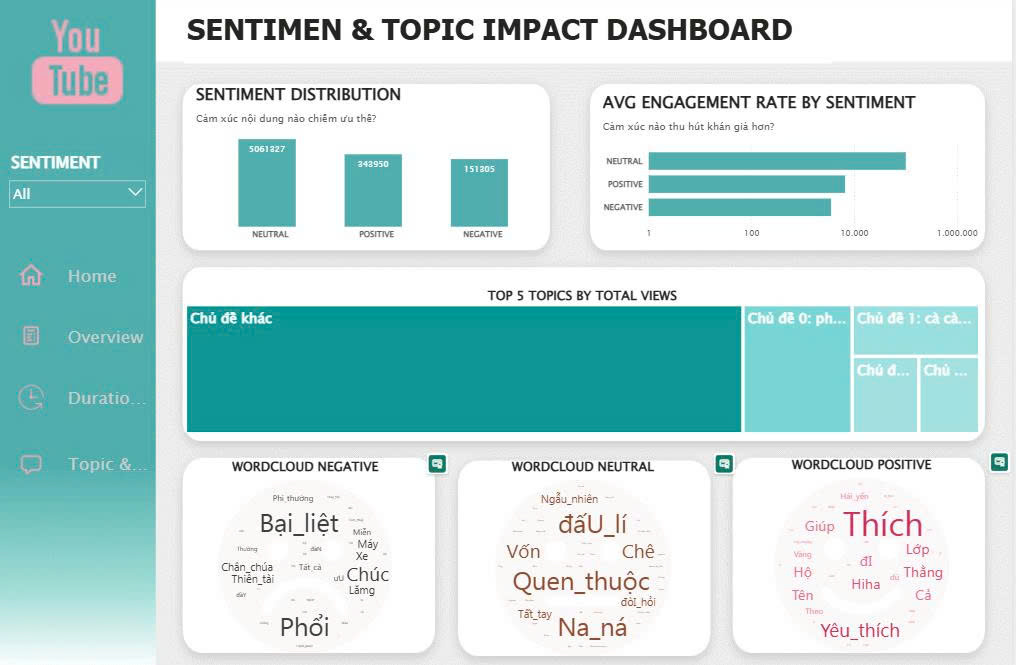

What the dashboard file says about the page in this screenshot:
{"tool":"powerbi","page":{"name":"Dash3","canvas":[1500,1000],"ordinal":3},"visuals":[{"type":"image","box":[0,22.5,232.5,160],"z":0},{"type":"textbox","box":[272.5,20,957.5,82.5],"z":1000},{"type":"slicer","fields":{"Values":["YOUTUBE_VIZ.sentiment"]},"box":[0,221.4,232.3,132.4],"z":2000},{"type":"clusteredColumnChart","title":"SENTIMENT DISTRIBUTION","fields":{"Category":["YOUTUBE_VIZ.sentiment"],"Y":["CountNonNull(YOUTUBE_VIZ.video_id)"]},"box":[286,132,544,246],"z":3000},{"type":"actionButton","title":"Button 3","box":[2.2,649.8,232.3,88.4],"z":3000,"group":"g1"},{"type":"actionButton","title":"Button 2","box":[2.2,553.1,232.3,88.4],"z":3125,"group":"g1"},{"type":"actionButton","title":"Button 1","box":[2.2,465.5,232.3,79.3],"z":3250,"group":"g1"},{"type":"actionButton","title":"Button Home","box":[2.2,375.6,232.3,81.6],"z":3500,"group":"g1"},{"type":"clusteredBarChart","title":"AVG ENGAGEMENT RATE BY SENTIMENT","fields":{"Category":["YOUTUBE_VIZ.sentiment"],"Y":["Sum(YOUTUBE_VIZ.engagement_rate)"]},"box":[882.5,132.5,570,242.5],"z":4000},{"type":"treemap","title":"TOP 5 TOPICS BY TOTAL VIEWS","fields":{"Values":["Sum(YOUTUBE_VIZ.views)"],"Group":["YOUTUBE_VIZ.topic_name_vn"]},"box":[272,426,1180,222],"z":5000},{"type":"WordCloud5550983e166911eebe560242ac120002","title":"WORDCLOUD POSITIVE","fields":{"measure":["Sum(YOUTUBE_VIZ.engagement_rate)"],"categories":["YOUTUBE_VIZ.comment_tokens"]},"box":[1047.5,672.5,452.5,307.5],"z":6000},{"type":"WordCloud5550983e166911eebe560242ac120002","title":"WORDCLOUD NEUTRAL","fields":{"measure":["Sum(YOUTUBE_VIZ.engagement_rate)"],"categories":["YOUTUBE_VIZ.comment_tokens"]},"box":[630,675,462.5,310],"z":7000},{"type":"WordCloud5550983e166911eebe560242ac120002","title":"WORDCLOUD NEGATIVE","fields":{"measure":["Sum(YOUTUBE_VIZ.engagement_rate)"],"categories":["YOUTUBE_VIZ.comment_tokens"]},"box":[232.5,675,435,305],"z":8000},{"type":"group","id":"g1","title":"Navigation","box":[2.2,375.6,232.3,362.5],"z":9000}]}

Visuals, with their boxes on the page's 1500x1000 design canvas (x1, y1, x2, y2). These are canvas units, not pixel positions in the 1016x665 screenshot, which may show the page scaled, cropped or inside an application window:
image: locate(0, 22, 232, 182)
textbox: locate(272, 20, 1230, 102)
slicer - YOUTUBE_VIZ.sentiment: locate(0, 221, 232, 354)
"SENTIMENT DISTRIBUTION" clusteredColumnChart: locate(286, 132, 830, 378)
"Button 3" actionButton: locate(2, 650, 234, 738)
"Button 2" actionButton: locate(2, 553, 234, 642)
"Button 1" actionButton: locate(2, 466, 234, 545)
"Button Home" actionButton: locate(2, 376, 234, 457)
"AVG ENGAGEMENT RATE BY SENTIMENT" clusteredBarChart: locate(882, 132, 1452, 375)
"TOP 5 TOPICS BY TOTAL VIEWS" treemap: locate(272, 426, 1452, 648)
"WORDCLOUD POSITIVE" WordCloud5550983e166911eebe560242ac120002: locate(1048, 672, 1500, 980)
"WORDCLOUD NEUTRAL" WordCloud5550983e166911eebe560242ac120002: locate(630, 675, 1092, 985)
"WORDCLOUD NEGATIVE" WordCloud5550983e166911eebe560242ac120002: locate(232, 675, 668, 980)
"Navigation" group: locate(2, 376, 234, 738)
